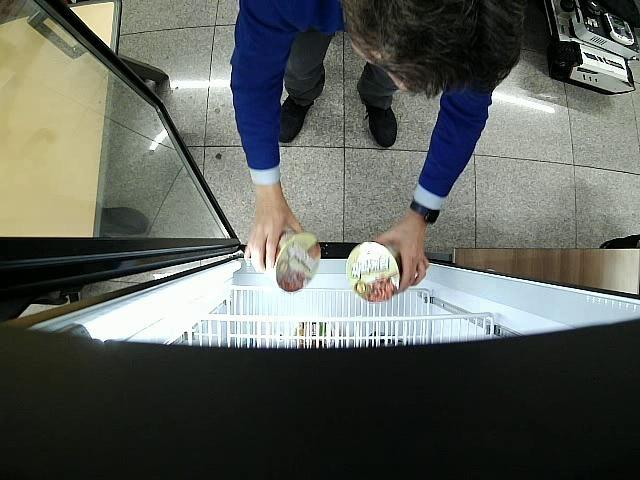03_chapagetti_L: (346, 242, 403, 304), (274, 229, 322, 294)
